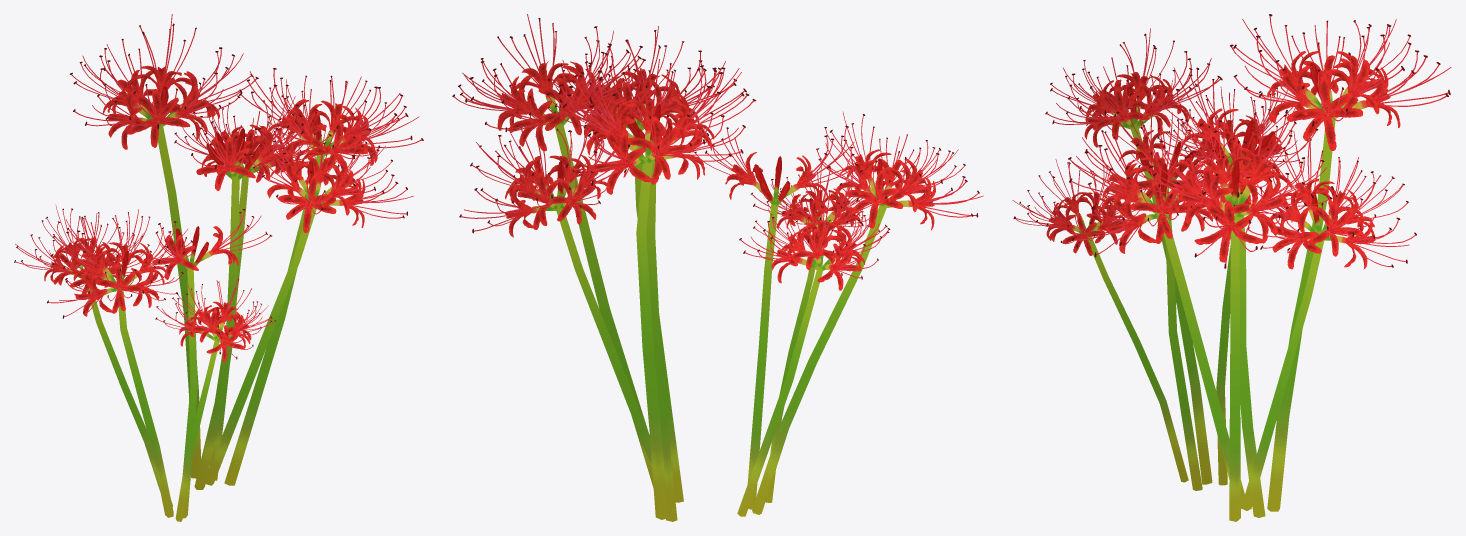
The model's file is m_lycoris06.fbx.
The picture shows the model from 3 angles, left to right: view 1: azimuth 30°, elevation 25°; view 2: azimuth 150°, elevation 25°; view 3: azimuth 270°, elevation 25°; orthographic projection. The views are drawn at different scales.
Parts seen in each view (by area): view 1: mesh_lycoris06_LOD0; view 2: mesh_lycoris06_LOD0; view 3: mesh_lycoris06_LOD0.
Part boxes in pixels (x1,y1,x2,y2): mesh_lycoris06_LOD0: [14, 14, 423, 521]; mesh_lycoris06_LOD0: [452, 14, 983, 521]; mesh_lycoris06_LOD0: [1012, 14, 1451, 521].
Size of what is drawn, in the model's own units: 0.4238 by 0.4183 by 0.3394.
